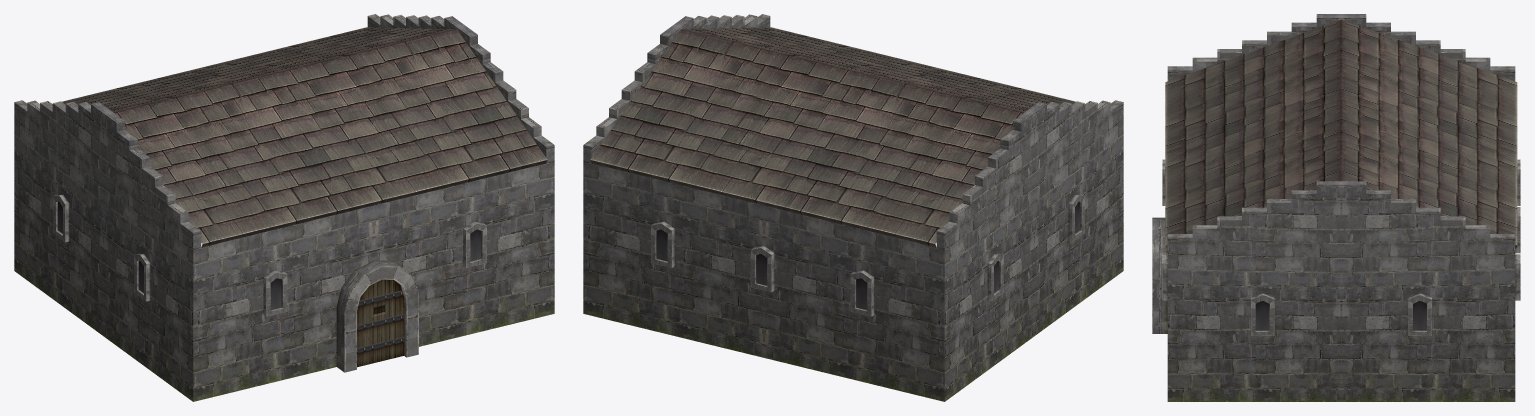
File: CastleHouse03.FBX
3 renders of one model, left to right at view 1: azimuth 30°, elevation 25°; view 2: azimuth 150°, elevation 25°; view 3: azimuth 270°, elevation 25°, orthographic. The views are drawn at different scales.
Parts seen in each view (by area): view 1: CastleHouse03; view 2: CastleHouse03; view 3: CastleHouse03.
Part boxes in pixels (x1,y1,x2,y2): CastleHouse03: (14, 14, 554, 401); CastleHouse03: (583, 14, 1123, 401); CastleHouse03: (1152, 14, 1520, 401).
Bounding box in the file's own units: 1277 × 737 × 1135.
